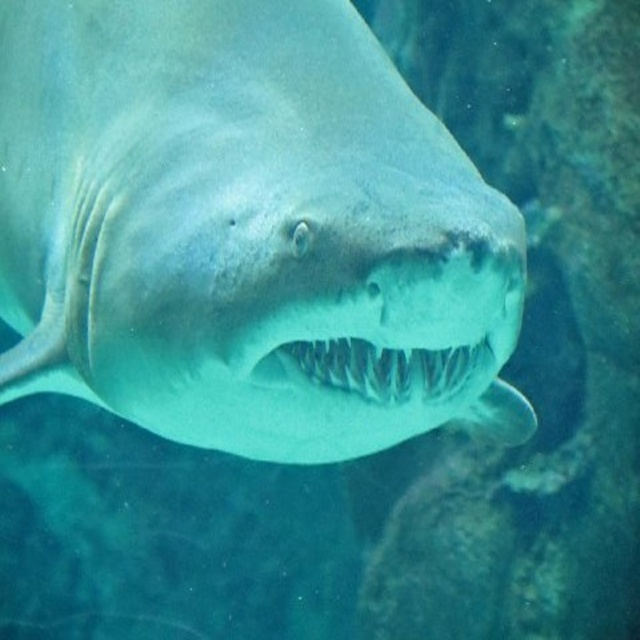Shark: (0, 0, 538, 465)
